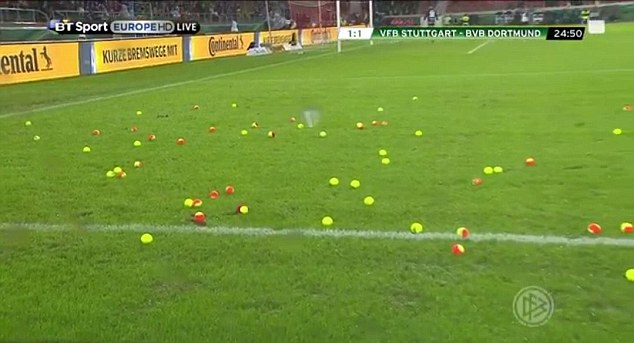tennis_ball: (624, 262, 634, 285), (138, 232, 153, 247), (321, 214, 335, 230), (363, 194, 376, 210), (410, 221, 423, 236), (81, 144, 93, 155), (611, 126, 623, 137), (483, 164, 493, 176), (184, 197, 194, 209), (295, 120, 306, 130), (240, 128, 250, 138), (351, 179, 360, 190), (414, 128, 423, 139), (328, 176, 338, 185), (319, 129, 328, 138), (32, 135, 42, 143), (113, 166, 123, 174), (494, 165, 503, 173), (133, 139, 141, 148), (377, 149, 387, 156), (380, 159, 390, 166), (25, 120, 33, 128), (106, 171, 115, 178), (378, 105, 386, 112), (135, 109, 142, 116), (231, 102, 239, 108)
